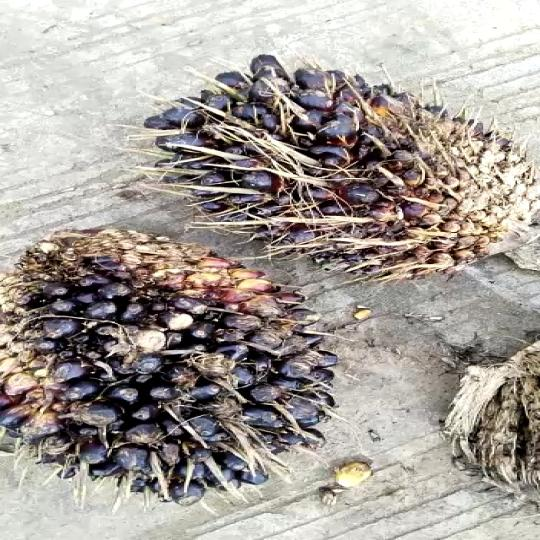mentah: (0, 189, 373, 500), (165, 36, 540, 291)
